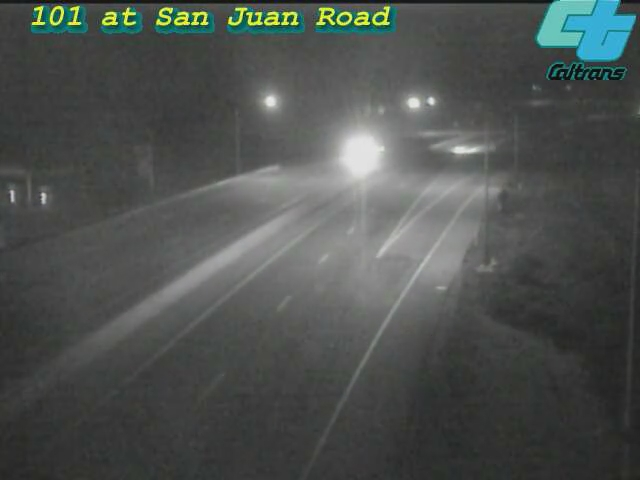vehicle: (338, 126, 388, 176), (432, 125, 482, 175)
